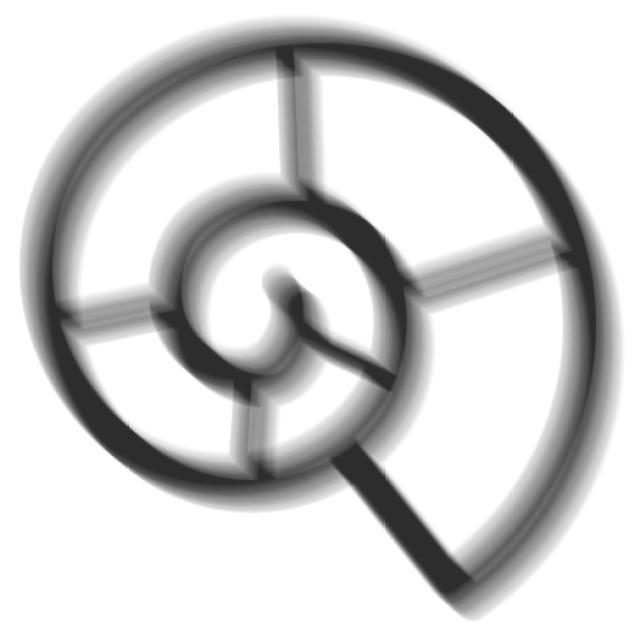fossil: (14, 16, 627, 631)
